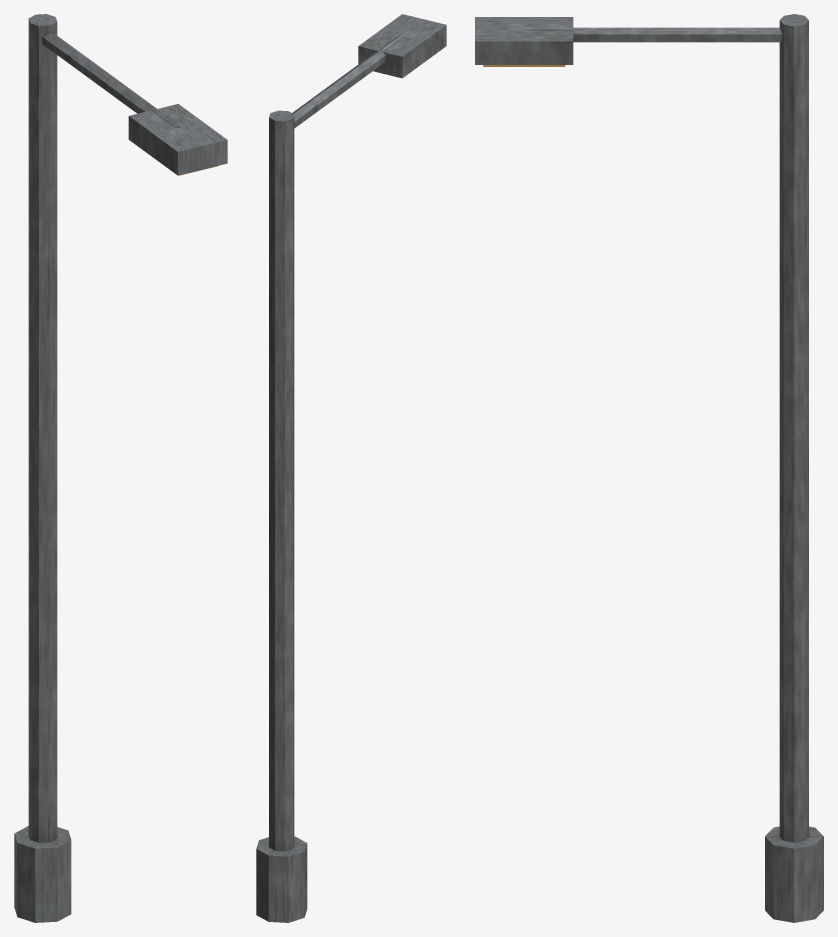
The model's file is city_street_lamp.glb.
3 renders of one model, left to right at view 1: azimuth 30°, elevation 25°; view 2: azimuth 150°, elevation 25°; view 3: azimuth 270°, elevation 25°, orthographic. The views are drawn at different scales.
Parts seen in each view (by area): view 1: city_street_lamp; view 2: city_street_lamp; view 3: city_street_lamp.
Part boxes in pixels (x1,y1,x2,y2): city_street_lamp: [14, 14, 227, 922]; city_street_lamp: [256, 14, 446, 922]; city_street_lamp: [475, 14, 823, 922].
Bounding box in the file's own units: 0.36 × 6 × 2.13.
Materials: 2 (2 with a texture image).
